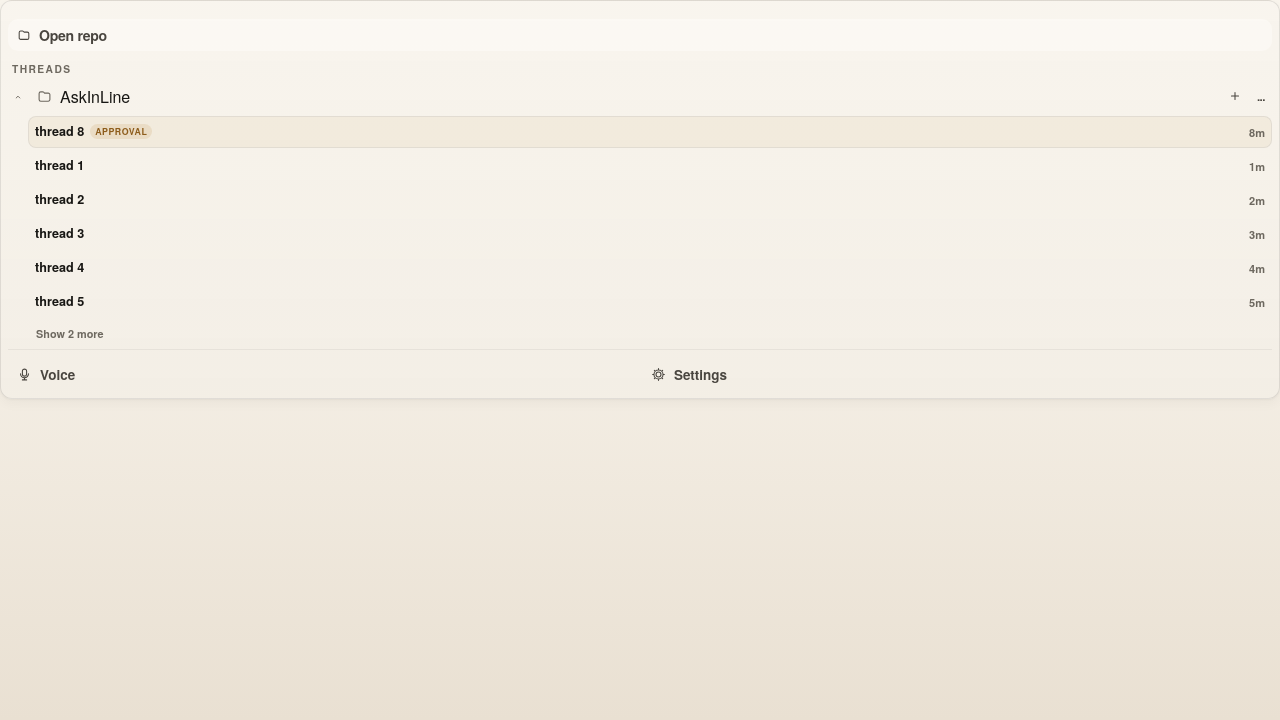
Scenario: LeftRail › caps project threads and lets the current thread break into the preview set
The image size is (1280, 720).
expect the button "thread 8 Approval 8m" is shown: met, box [28,116,1272,148]
Click the button "Show 2 more" at [70, 334], box [28,322,1272,341]
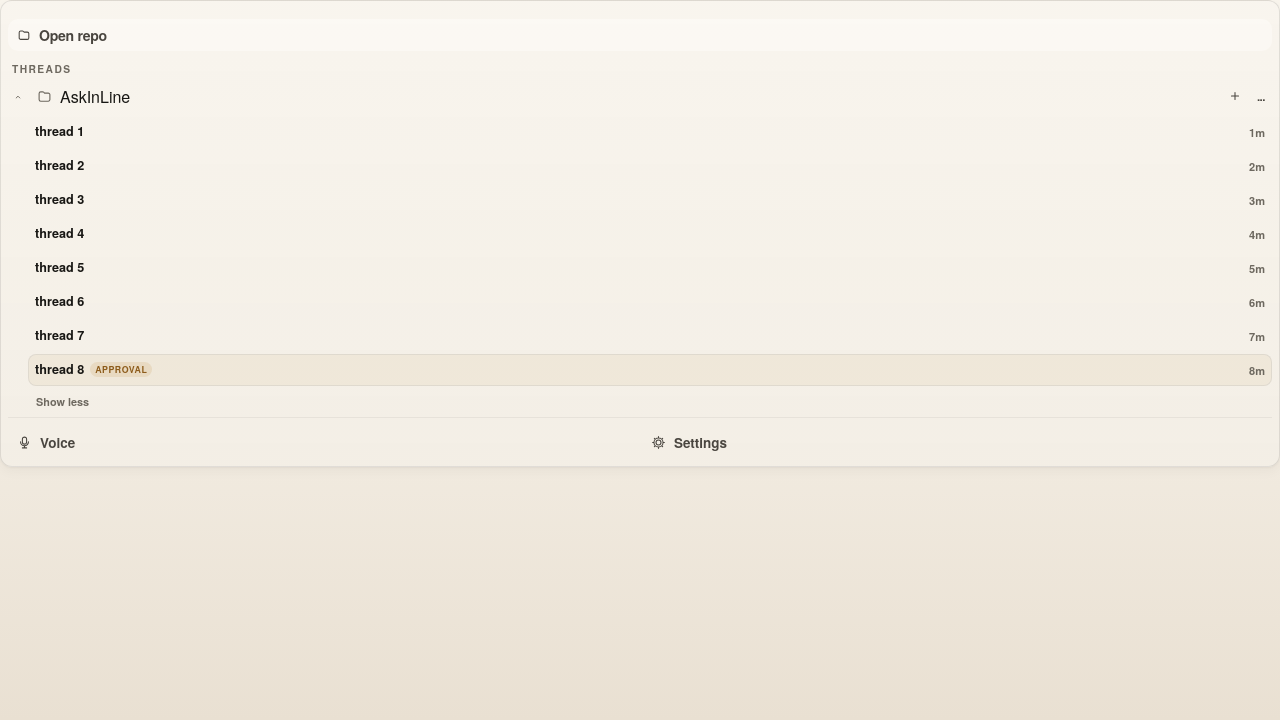
expect the text "Show less" is shown: met, box [28,390,1272,409]
expect the element showing "thread 7 7m" is shown: met, box [35,328,1265,344]
